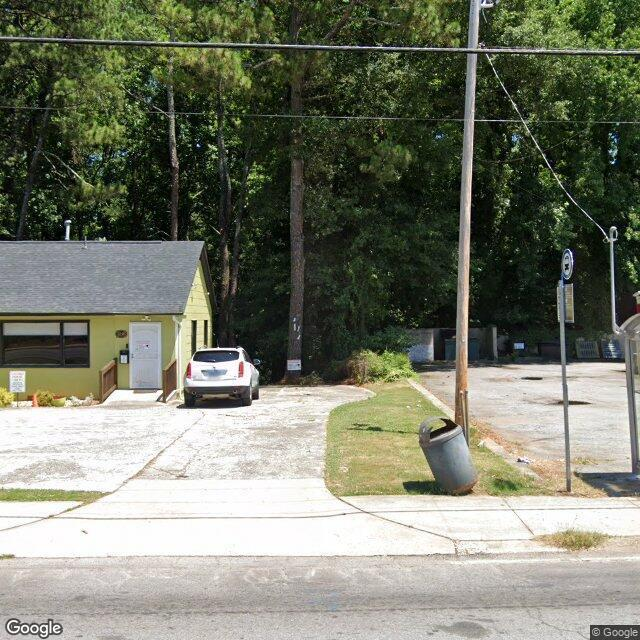shelter: (616, 313, 640, 492)
trash_can: (418, 416, 478, 496)
